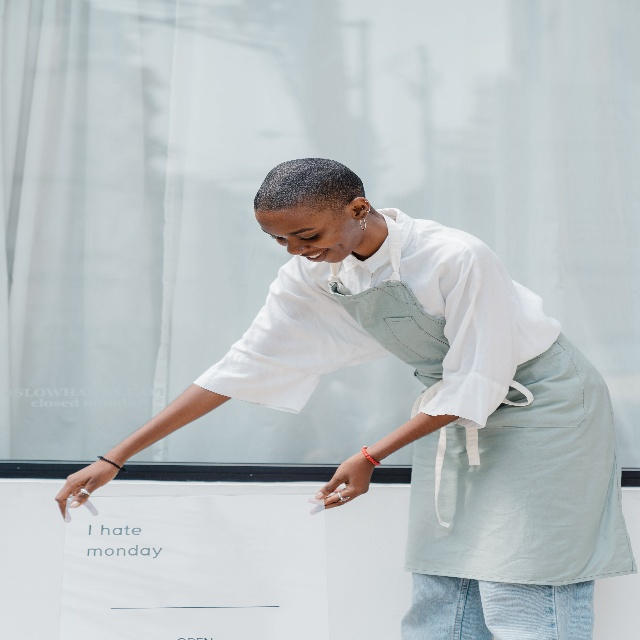Sin_guantes: (307, 451, 379, 523), (56, 451, 126, 520)
